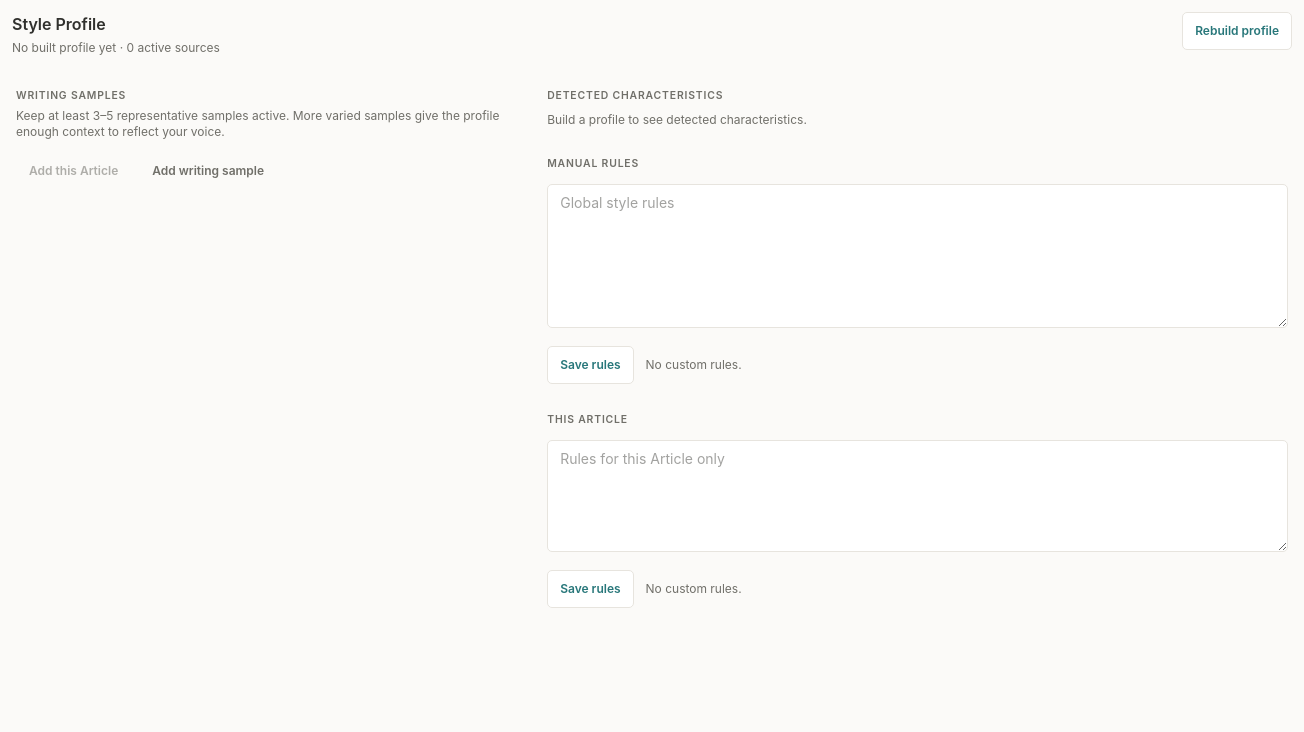
Test: StyleProfileView › warns when adding an empty writing sample
The image size is (1304, 732).
Click the button "Add writing sample" at (208, 171), box x1=139 y1=152 x2=277 y2=190
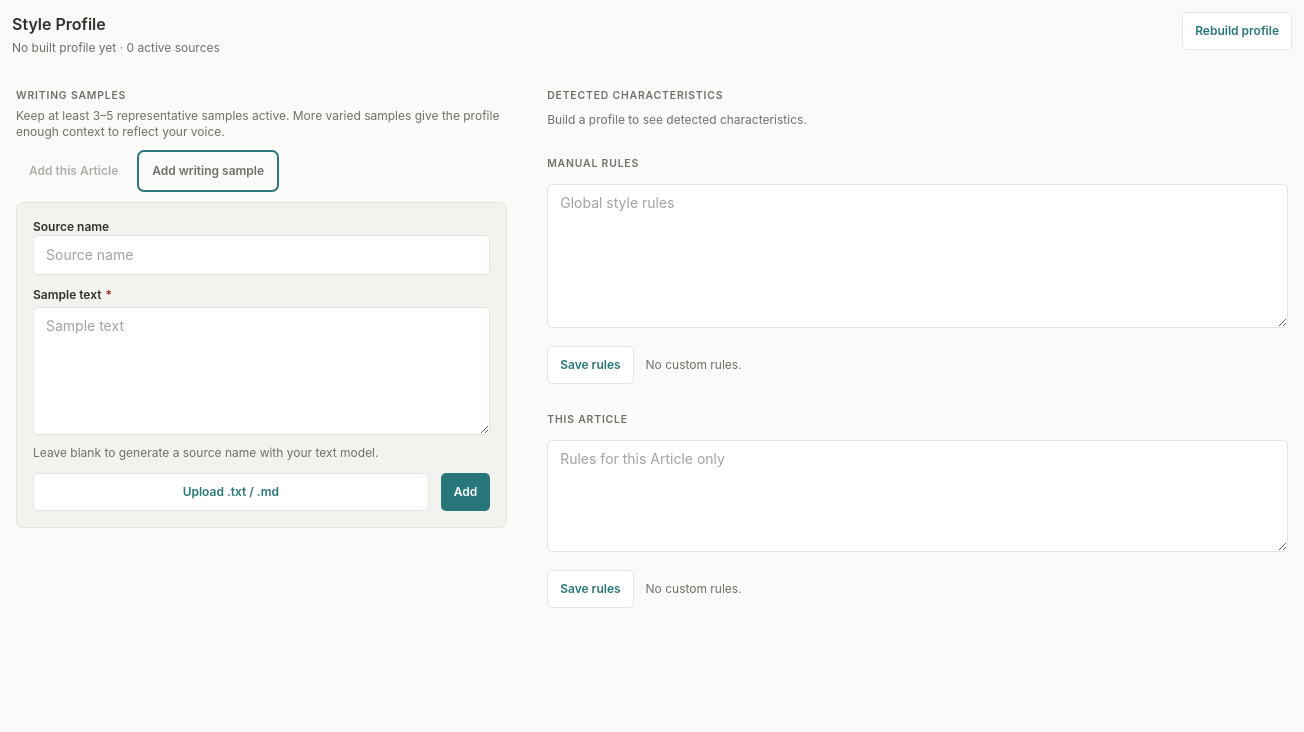
Click the button "Add" at (465, 492), box x1=441 y1=473 x2=490 y2=511
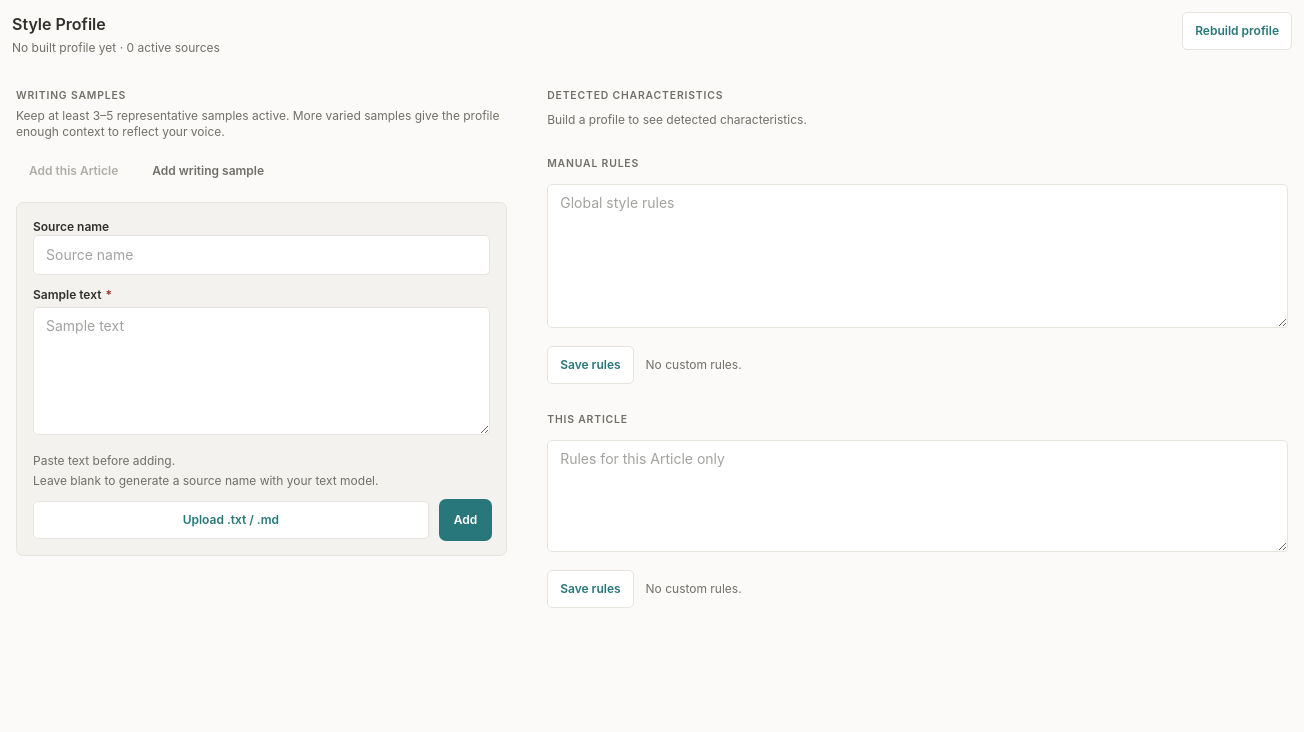
Now the text "Leave blank to generate a source name with your text model." is shown, box x1=33 y1=473 x2=378 y2=488
Now the message "Paste text before adding." is shown, box x1=33 y1=453 x2=175 y2=468
